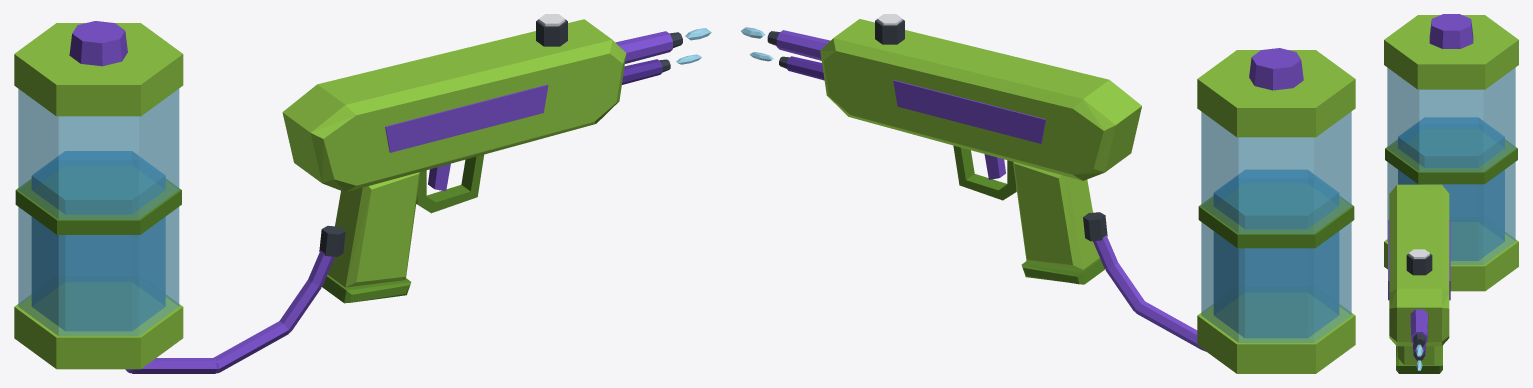
The model's file is monsoon.glb.
3 renders of one model, left to right at view 1: azimuth 30°, elevation 25°; view 2: azimuth 150°, elevation 25°; view 3: azimuth 270°, elevation 25°, orthographic. The views are drawn at different scales.
Parts seen in each view (by area): view 1: monsoon; view 2: monsoon; view 3: monsoon.
Part boxes in pixels (<box>): monsoon: <box>14,14,711,373</box>; monsoon: <box>741,14,1355,373</box>; monsoon: <box>1384,14,1518,373</box>.
Bounding box in the file's own units: 0.564 × 0.288 × 0.126.
